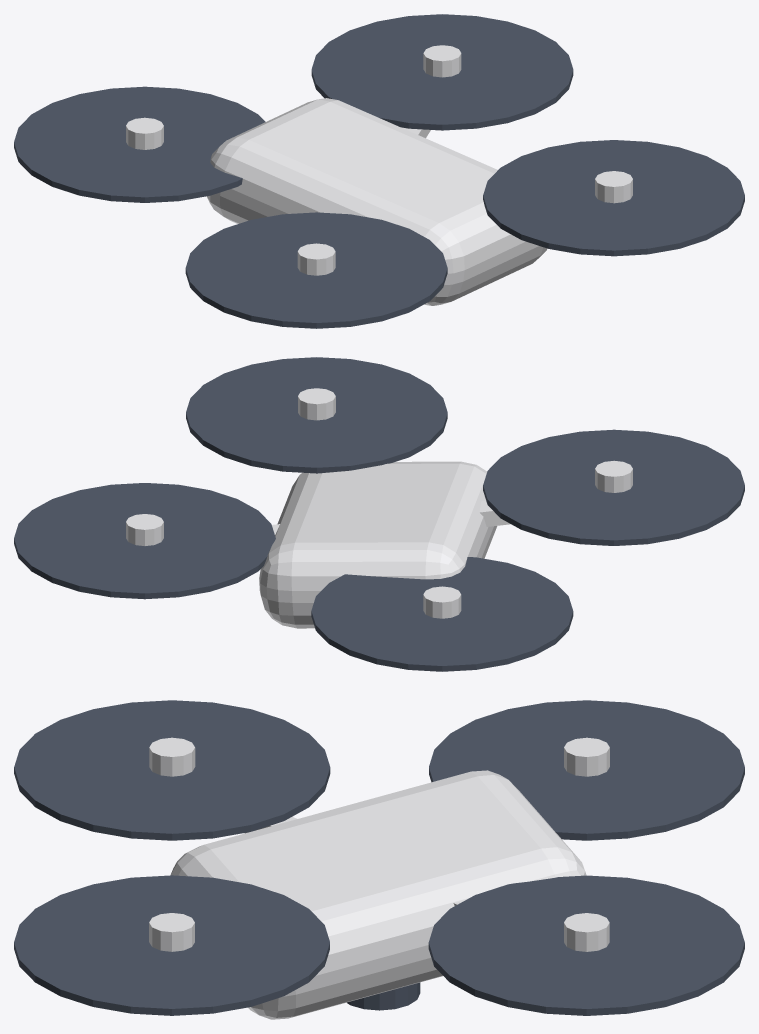
Rendered from drone.glb.
3 views of the same model, one above another, from view 1: azimuth 30°, elevation 25°; view 2: azimuth 150°, elevation 25°; view 3: azimuth 270°, elevation 25° (orthographic). The views are drawn at different scales.
Visible parts, largest first — view 1: Drone1_corps.001, Drone1_rotor2.001, Drone1_rotor3.001, Drone1_rotor0.001, Drone1_rotor1.001, Drone1_hub2.001, Drone1_hub0.001, Drone1_hub3.001, Drone1_hub1.001; view 2: Drone1_corps.001, Drone1_rotor2.001, Drone1_rotor3.001, Drone1_rotor0.001, Drone1_rotor1.001, Drone1_hub1.001, Drone1_hub3.001, Drone1_hub0.001, Drone1_hub2.001; view 3: Drone1_corps.001, Drone1_rotor2.001, Drone1_rotor3.001, Drone1_rotor0.001, Drone1_rotor1.001, Drone1_hub2.001, Drone1_hub3.001, Drone1_hub1.001, Drone1_hub0.001, Drone1_gimbal.001.
Part boxes in pixels (<box>): Drone1_corps.001: <box>207,98,547,305</box>; Drone1_rotor2.001: <box>185,212,447,328</box>; Drone1_rotor3.001: <box>483,140,744,256</box>; Drone1_rotor0.001: <box>311,14,573,130</box>; Drone1_rotor1.001: <box>14,86,265,202</box>; Drone1_hub2.001: <box>297,243,335,275</box>; Drone1_hub0.001: <box>423,45,461,77</box>; Drone1_hub3.001: <box>595,171,632,203</box>; Drone1_hub1.001: <box>126,117,163,149</box>; Drone1_corps.001: <box>259,461,497,628</box>; Drone1_rotor2.001: <box>483,429,744,545</box>; Drone1_rotor3.001: <box>186,357,447,473</box>; Drone1_rotor0.001: <box>14,483,275,599</box>; Drone1_rotor1.001: <box>311,557,573,671</box>; Drone1_hub1.001: <box>423,586,461,618</box>; Drone1_hub3.001: <box>298,388,335,420</box>; Drone1_hub0.001: <box>126,514,163,545</box>; Drone1_hub2.001: <box>595,460,632,492</box>; Drone1_corps.001: <box>170,770,586,1019</box>; Drone1_rotor2.001: <box>14,700,330,840</box>; Drone1_rotor3.001: <box>14,875,329,1015</box>; Drone1_rotor0.001: <box>428,875,744,1015</box>; Drone1_rotor1.001: <box>429,700,744,840</box>; Drone1_hub2.001: <box>149,737,195,776</box>; Drone1_hub3.001: <box>149,913,194,951</box>; Drone1_hub1.001: <box>564,737,609,776</box>; Drone1_hub0.001: <box>564,913,609,951</box>; Drone1_gimbal.001: <box>347,982,420,1010</box>.
Bounding box in the file's own units: 2.87 × 0.7095 × 2.87.
